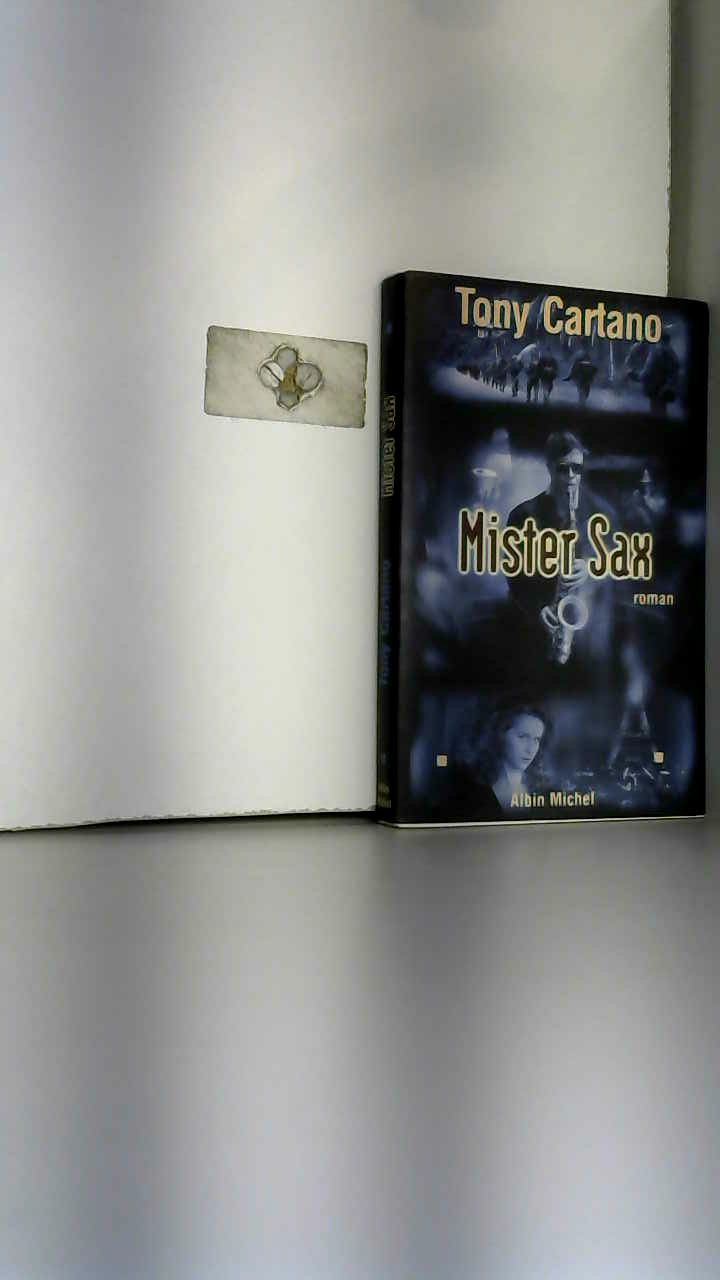book: (350, 226, 720, 856)
